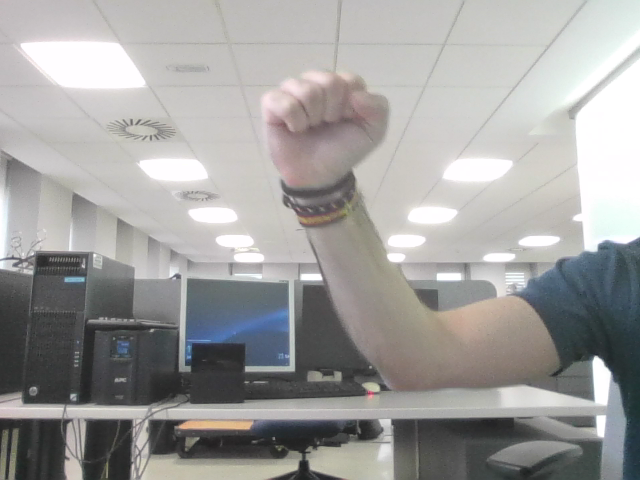Puño: (276, 82, 374, 159)
